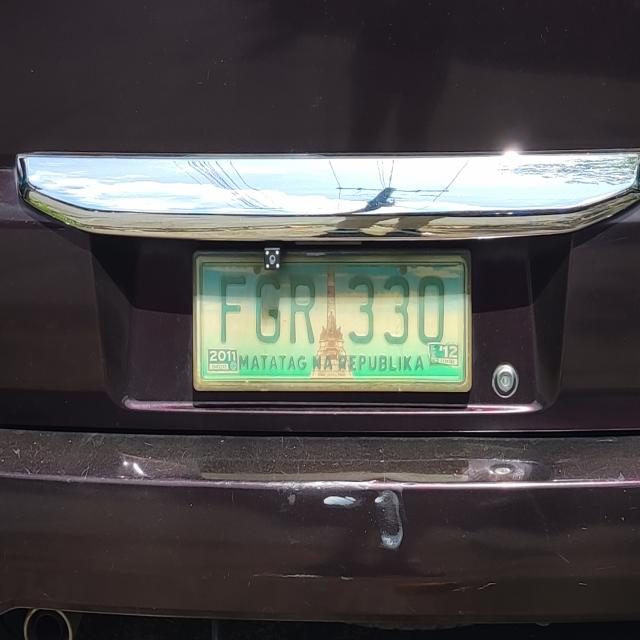plate: (191, 246, 474, 393)
